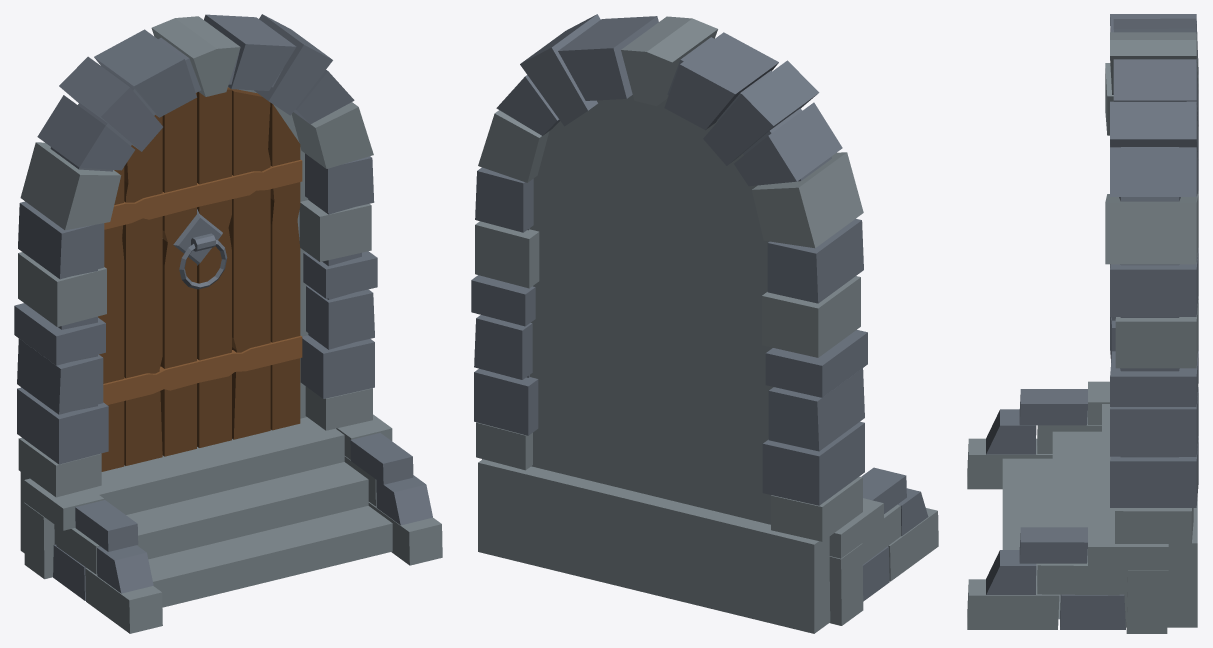
File: Door_Round.glb
3 views of the same model, side by side, from view 1: azimuth 30°, elevation 25°; view 2: azimuth 150°, elevation 25°; view 3: azimuth 270°, elevation 25° (orthographic). The views are drawn at different scales.
Parts seen in each view (by area): view 1: Door_Round; view 2: Door_Round; view 3: Door_Round.
Part boxes in pixels (bbox=[...]): Door_Round: bbox=[14, 14, 442, 633]; Door_Round: bbox=[471, 14, 938, 633]; Door_Round: bbox=[967, 14, 1198, 633].
Size of the model in its own units: 0.5014 by 0.7226 by 0.2964.
